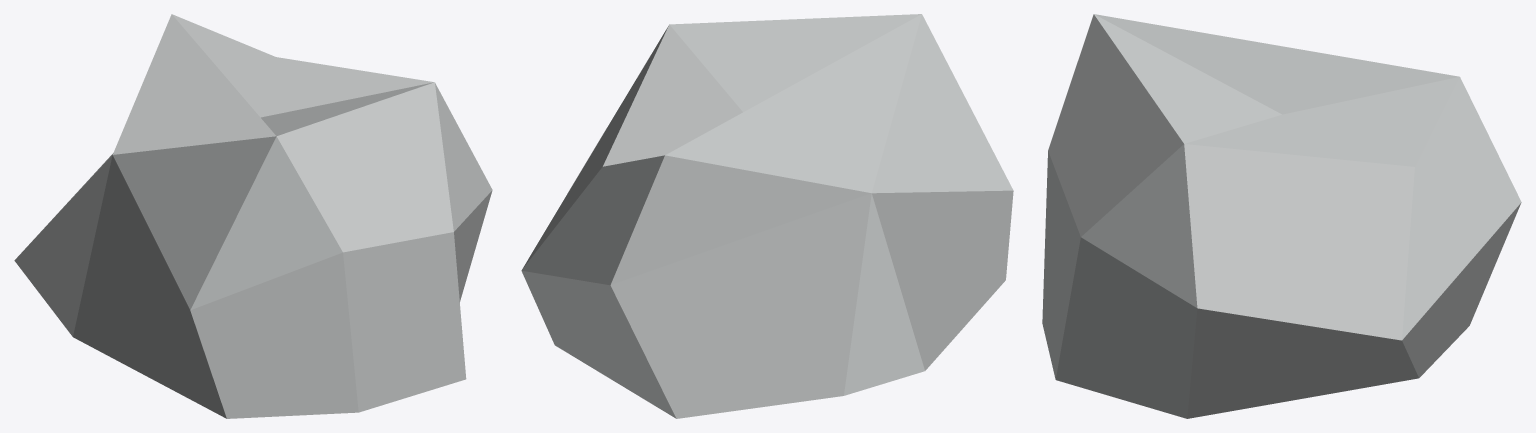
The model's file is Rock_02.fbx.
3 views of the same model, side by side, from view 1: azimuth 30°, elevation 25°; view 2: azimuth 150°, elevation 25°; view 3: azimuth 270°, elevation 25° (orthographic). The views are drawn at different scales.
Parts seen in each view (by area): view 1: Rock_02; view 2: Rock_02; view 3: Rock_02.
Part boxes in pixels (<box>): Rock_02: <box>14,14,492,418</box>; Rock_02: <box>521,14,1013,418</box>; Rock_02: <box>1042,14,1521,418</box>.
Bounding box in the file's own units: 190 × 140 × 207.
Materials: 1 (1 with a texture image).
